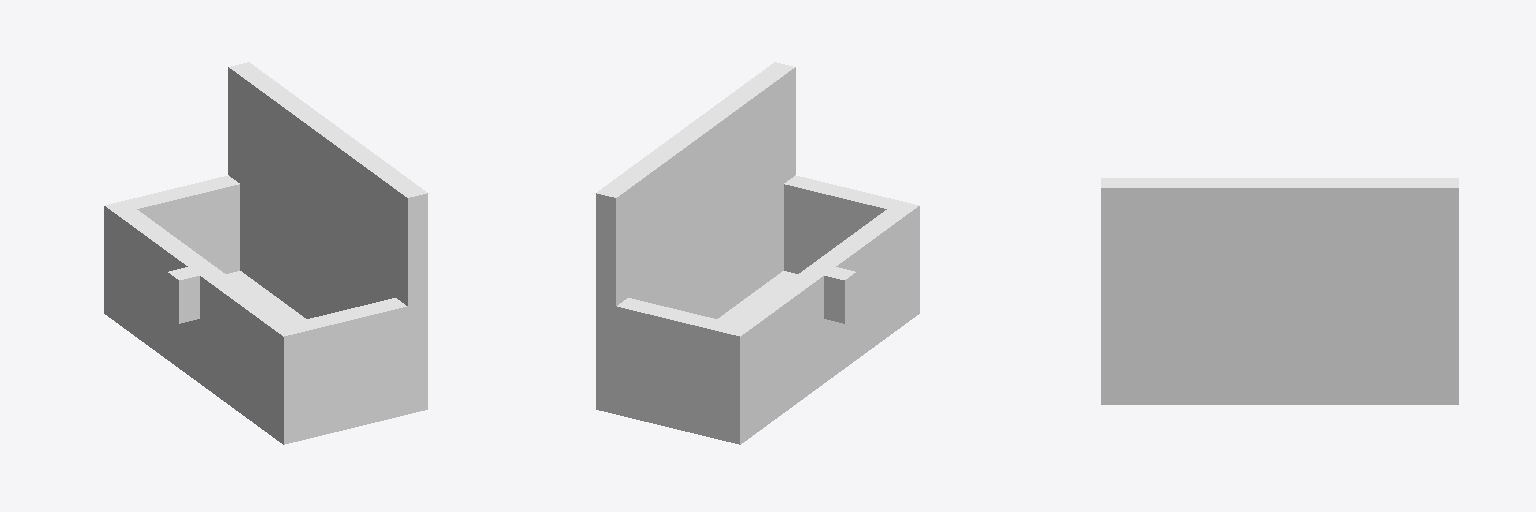
The model's file is obj_scrigno_open.obj.
3 views of the same model, side by side, from view 1: azimuth 30°, elevation 25°; view 2: azimuth 150°, elevation 25°; view 3: azimuth 270°, elevation 25° (orthographic).
Visible parts, largest first — view 1: obj_scrigno_open; view 2: obj_scrigno_open; view 3: obj_scrigno_open.
Part boxes in pixels (x1,y1,x2,y2): obj_scrigno_open: (104,62,427,444); obj_scrigno_open: (596,62,919,444); obj_scrigno_open: (1101,178,1458,404).
Size of the model in its own units: 8 by 10 by 15.